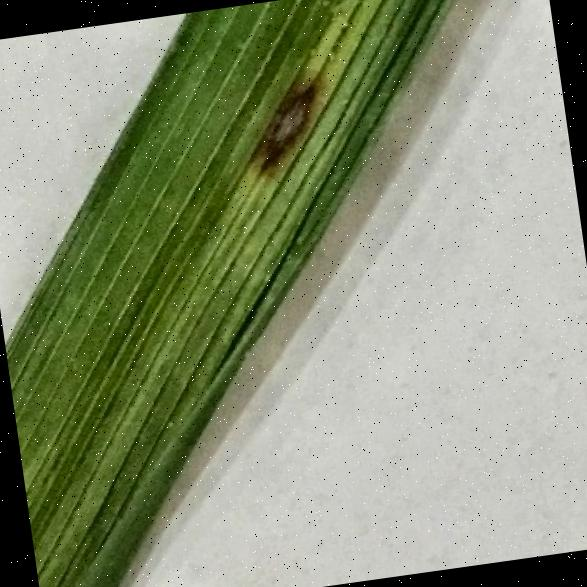Leaf_smut: (216, 58, 340, 190)
